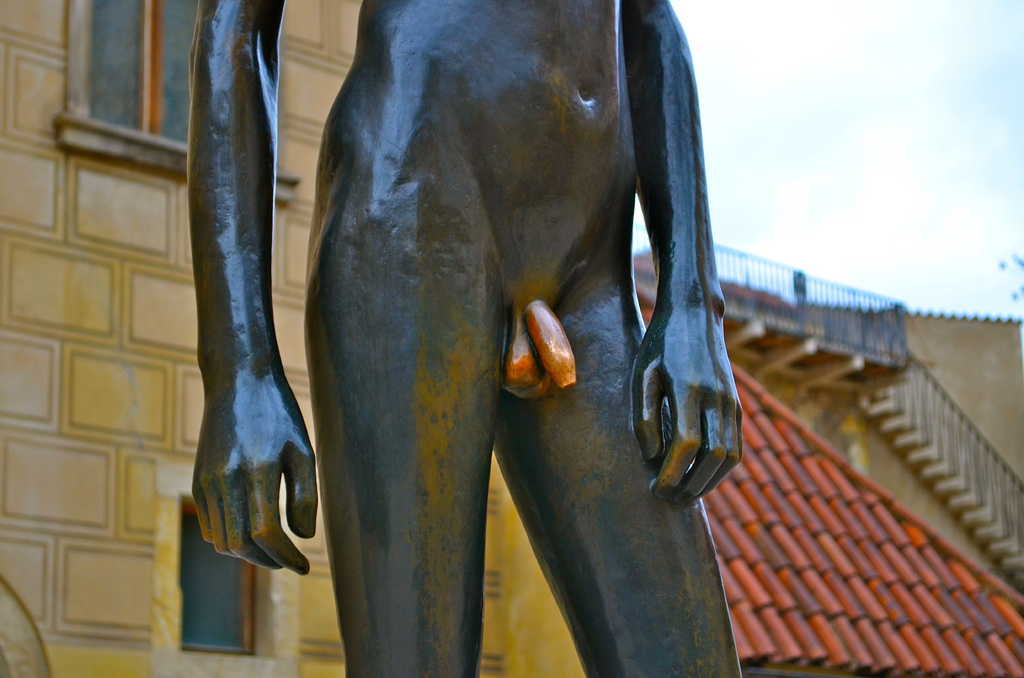Human_hand: (172, 33, 323, 601), (630, 305, 746, 503)
